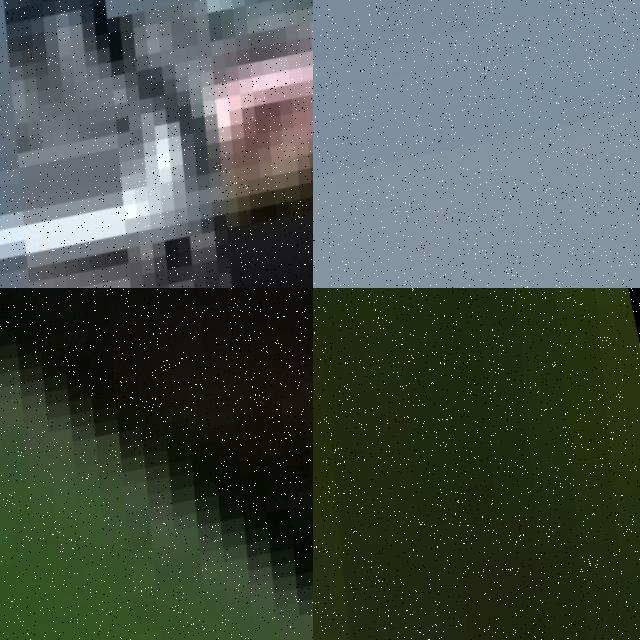0: (0, 0, 313, 288)
drone: (313, 288, 640, 640), (0, 288, 313, 640)
